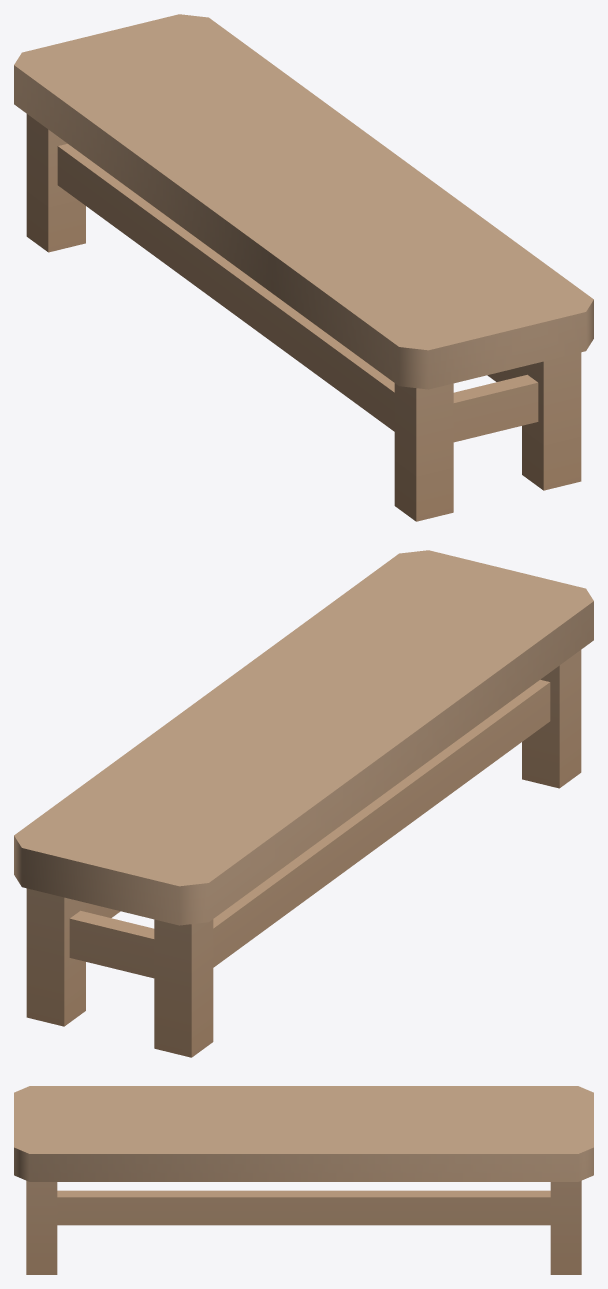
File: bench.obj
3 renders of one model, top to bottom at view 1: azimuth 30°, elevation 25°; view 2: azimuth 150°, elevation 25°; view 3: azimuth 270°, elevation 25°, orthographic. The views are drawn at different scales.
Parts seen in each view (by area): view 1: stall-bench; view 2: stall-bench; view 3: stall-bench.
Part boxes in pixels (<box>): stall-bench: <box>14,14,593,521</box>; stall-bench: <box>14,550,593,1057</box>; stall-bench: <box>14,1086,593,1274</box>.
Size of the model in its own units: 1.84 by 1.59 by 6.65.
1 material, 1 textured.
